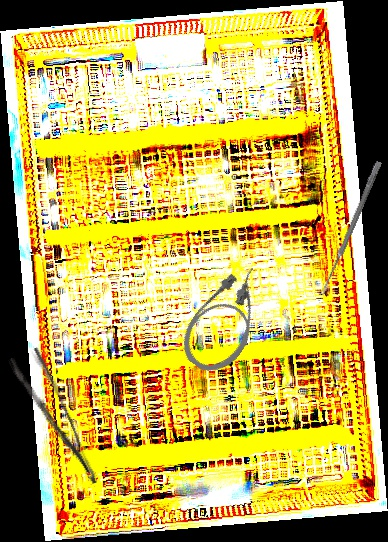Cannula: (171, 256, 285, 383)
Dressing Forceps: (7, 345, 101, 496)
Surgical Spoon: (318, 160, 383, 297)
